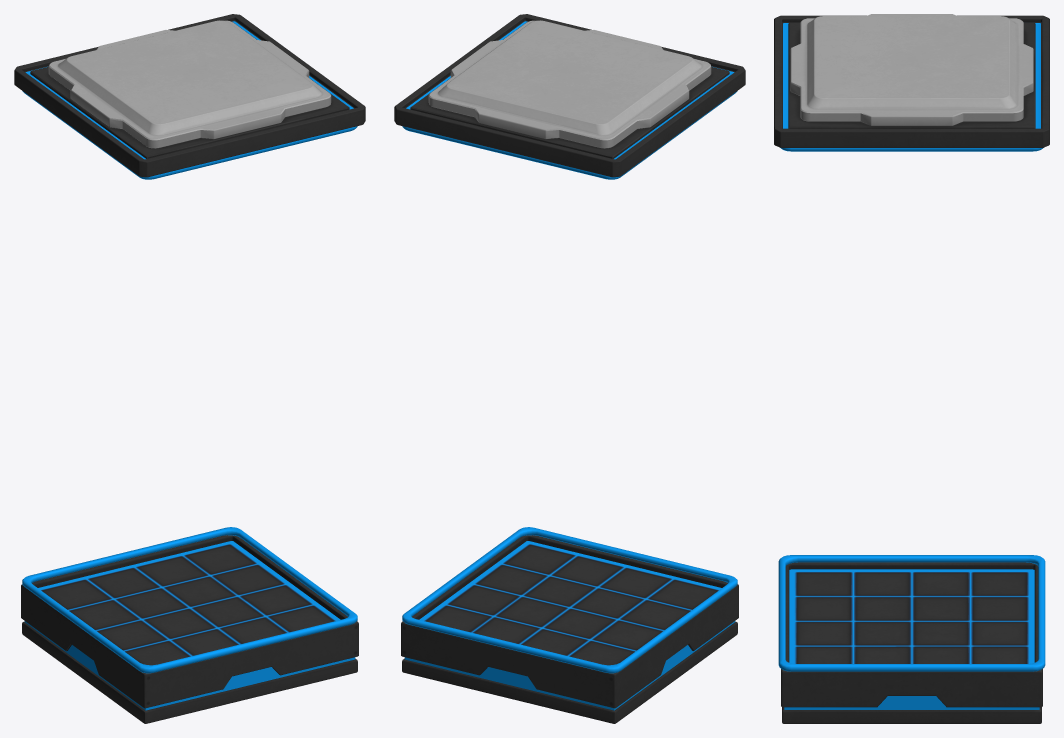
File: Tetris_PlatformB.fbx
The picture shows the model from 3 angles, left to right: view 1: azimuth 30°, elevation 25°; view 2: azimuth 150°, elevation 25°; view 3: azimuth 270°, elevation 25°; orthographic projection. The views are drawn at different scales.
Visible parts, largest first — view 1: Tetris_PlatformB; view 2: Tetris_PlatformB; view 3: Tetris_PlatformB.
Part boxes in pixels (x1,y1,x2,y2): Tetris_PlatformB: [14, 14, 365, 723]; Tetris_PlatformB: [394, 14, 745, 723]; Tetris_PlatformB: [774, 14, 1049, 723].
Bounding box in the file's own units: 70.51 × 173 × 70.51.
